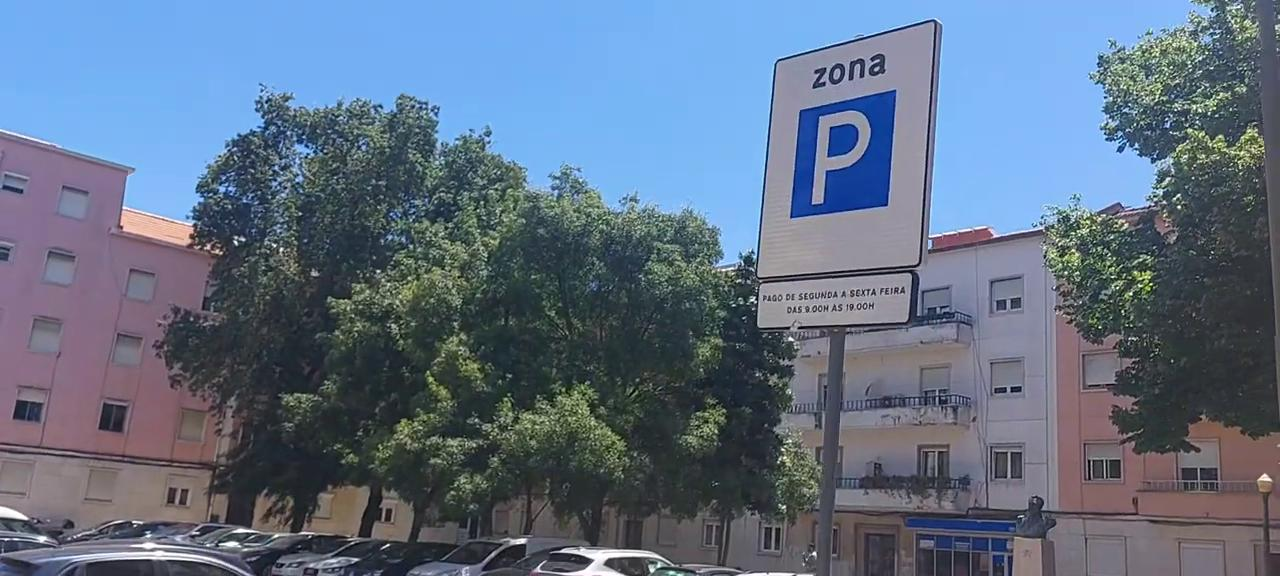Estacionamento autorizado: (756, 13, 941, 291)
